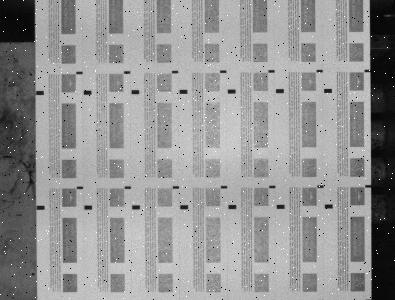backgroundclutter: (32, 272, 35, 276)
qblock: (36, 205, 45, 210), (277, 204, 285, 209), (84, 205, 92, 210), (180, 89, 188, 94), (84, 90, 92, 95), (324, 88, 332, 93), (131, 90, 140, 94), (180, 205, 188, 209), (132, 205, 140, 209), (36, 91, 44, 95), (325, 204, 333, 208), (228, 205, 236, 209), (276, 89, 284, 93), (228, 89, 236, 93)
smallqblock: (221, 185, 228, 189), (172, 70, 178, 74), (76, 71, 83, 74), (124, 71, 131, 74), (269, 185, 276, 188), (220, 70, 227, 73), (268, 70, 275, 73), (317, 185, 324, 188), (173, 186, 179, 189), (125, 186, 131, 189), (77, 186, 83, 189), (365, 69, 371, 72), (365, 185, 372, 187), (317, 70, 323, 72), (317, 298, 323, 300), (365, 298, 371, 300), (220, 299, 228, 300), (124, 299, 131, 300), (77, 299, 84, 300), (172, 299, 179, 300), (269, 299, 275, 300)
